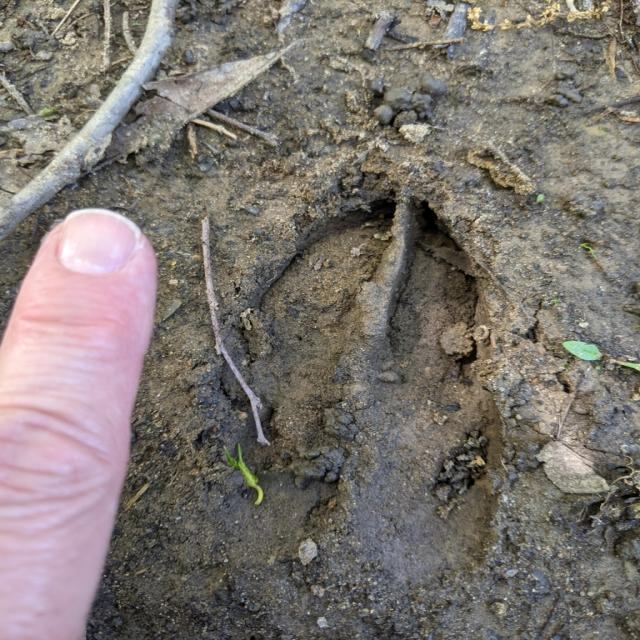deer: (258, 200, 487, 395)
